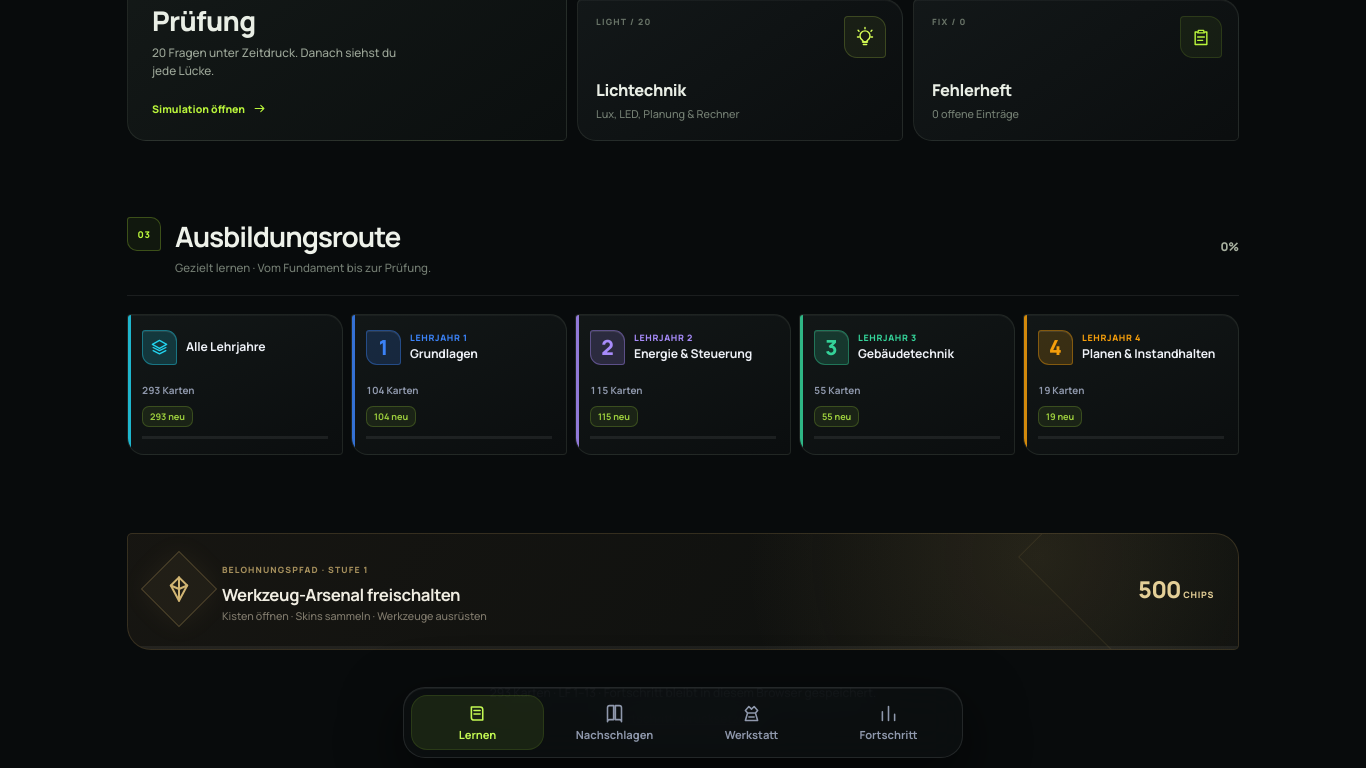
Test case: Rechentrainer › bietet den Rechen-Modus im Lernfeld mit Rechenkarten an
(page scrolled)
Click the button with aria-label "Lehrjahr 1, Grundlagen" at {"x": 459, "y": 384}, box [351,314,567,455]
(page scrolled)
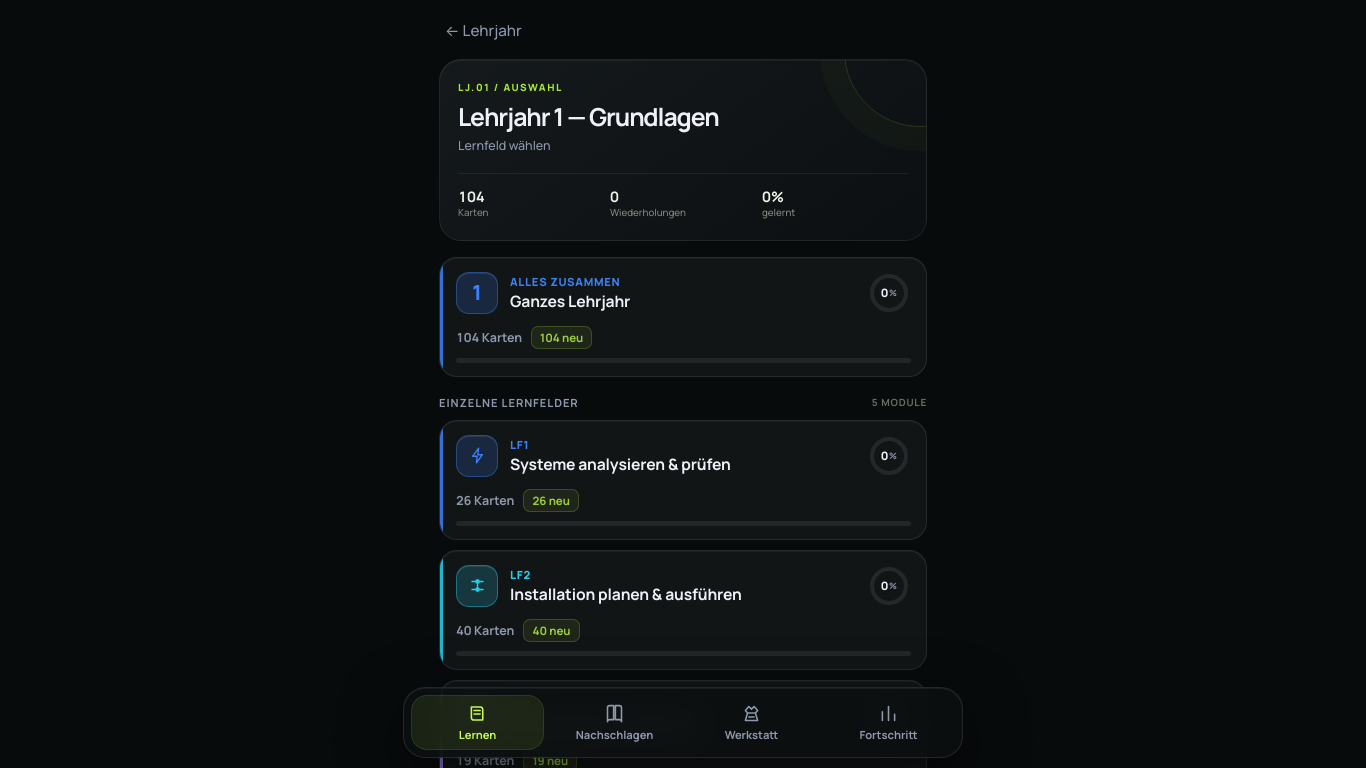
Click the button with aria-label "LF1," at {"x": 477, "y": 456}, box [439,420,927,540]
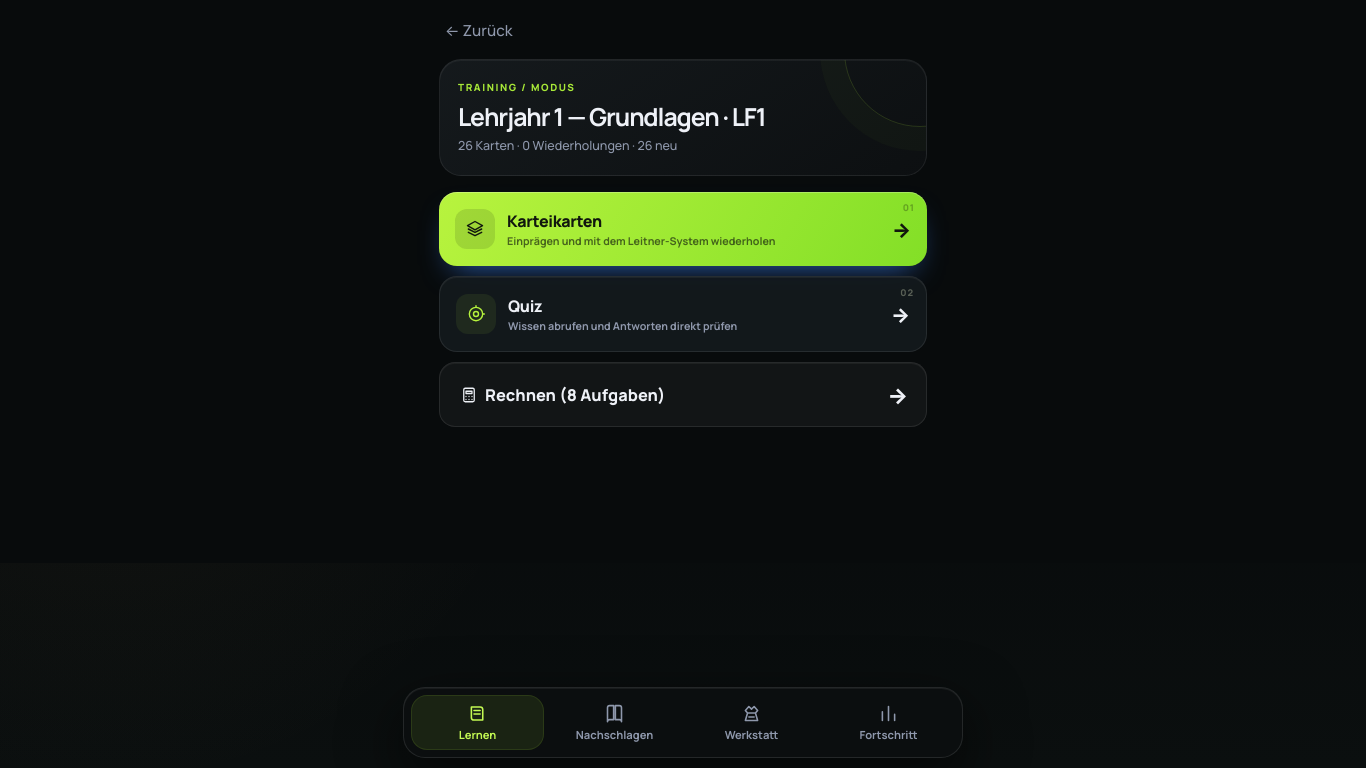
Click the button "Rechnen (8 Aufgaben) →" at {"x": 526, "y": 395}, box [439,362,927,427]
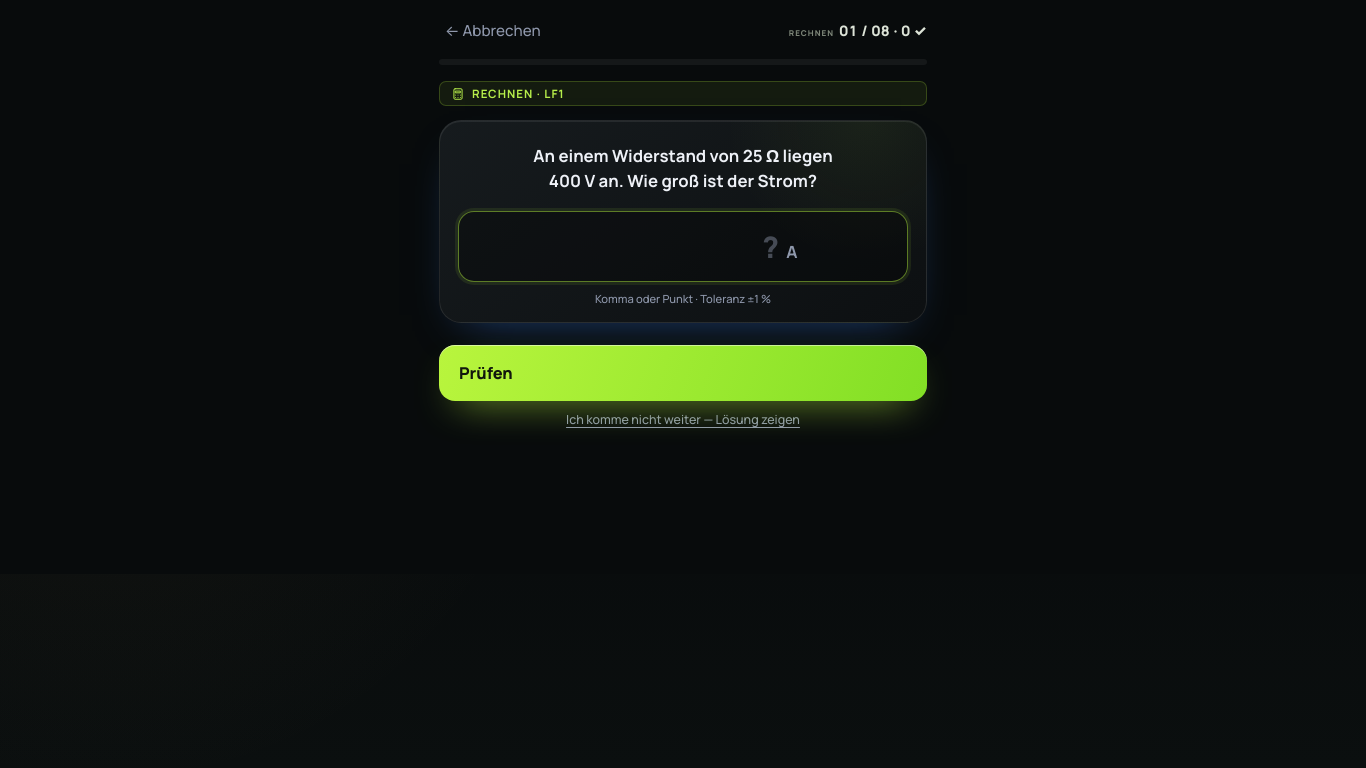
Now the field labelled "A" is shown, box [568,226,778,267]
